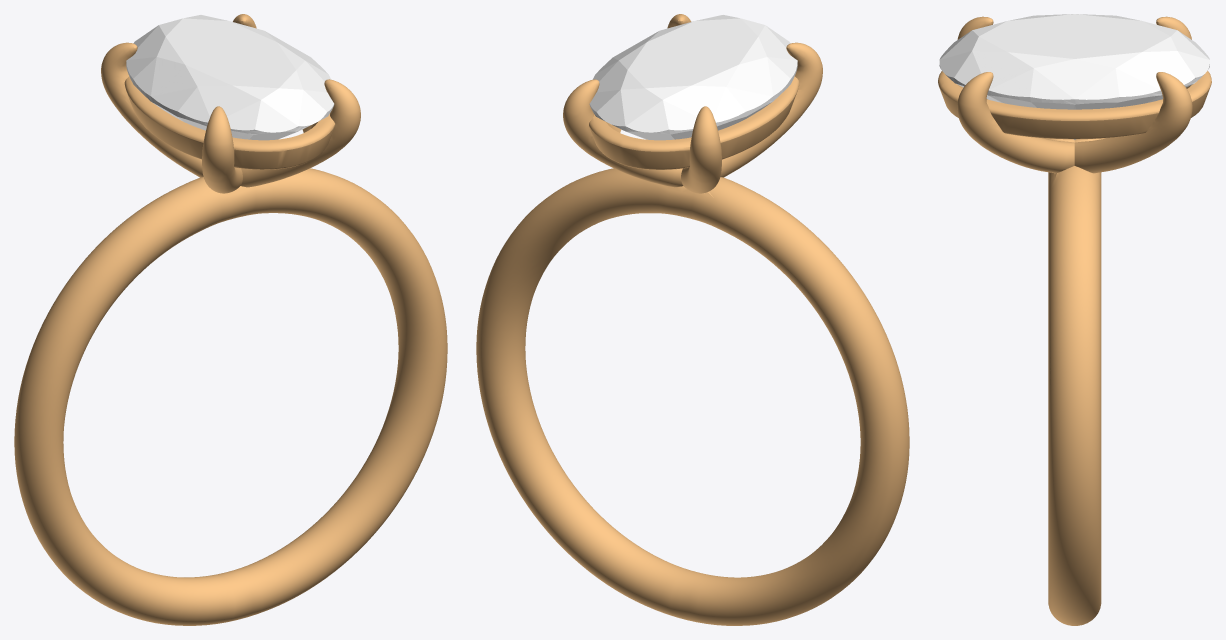
The picture shows the model from 3 angles, left to right: view 1: azimuth 30°, elevation 25°; view 2: azimuth 150°, elevation 25°; view 3: azimuth 270°, elevation 25°; orthographic projection.
Bounding box in the file's own units: 2.34 × 2.97 × 1.3.
